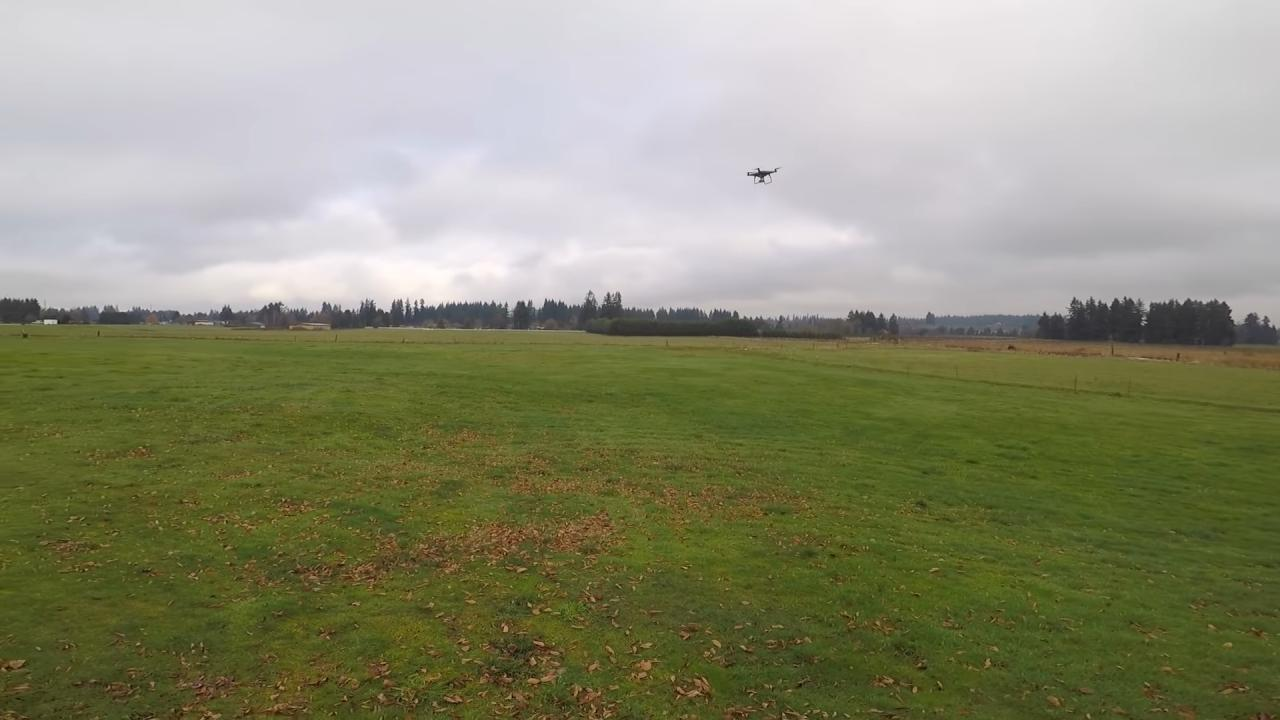Drone: (737, 161, 787, 191)
